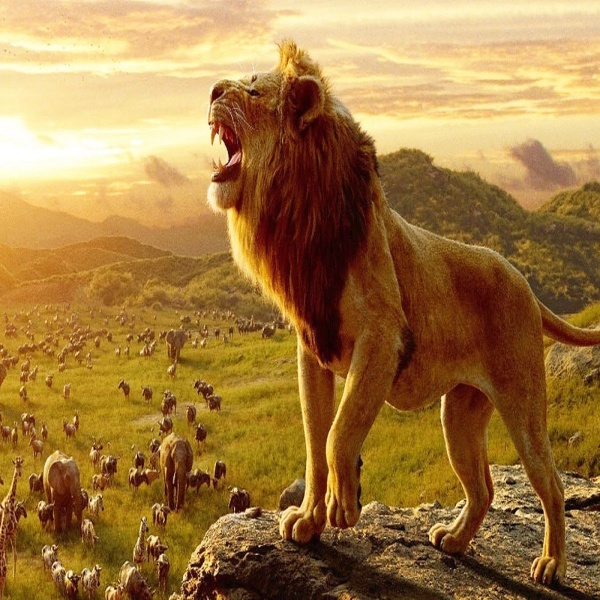Lion: (202, 37, 600, 587)
